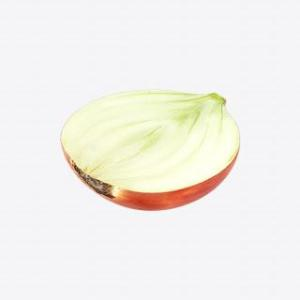onion: (58, 90, 244, 212)
